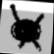not correct: (4, 2, 48, 53)
